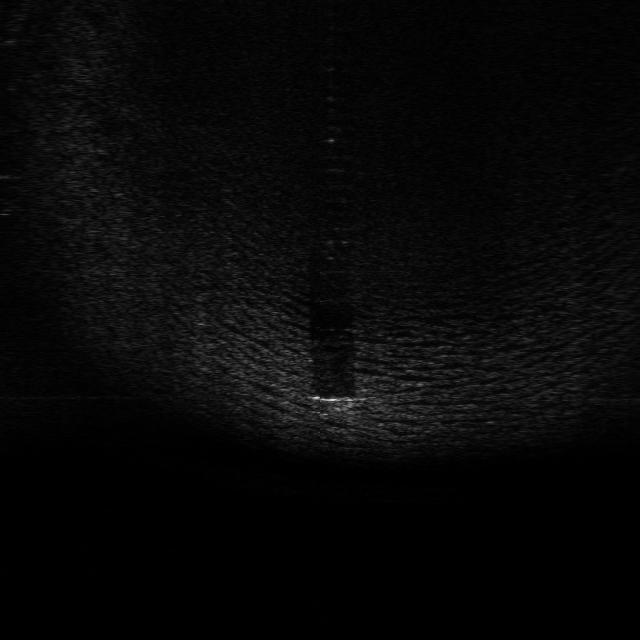cube: (308, 392, 354, 422)
